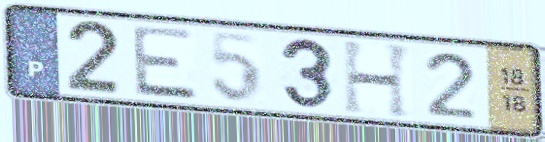2: (64, 18, 126, 99), (422, 50, 480, 122)
3: (274, 35, 341, 113)
5: (208, 28, 267, 106)
E: (129, 23, 203, 103)
H: (338, 39, 416, 121)
